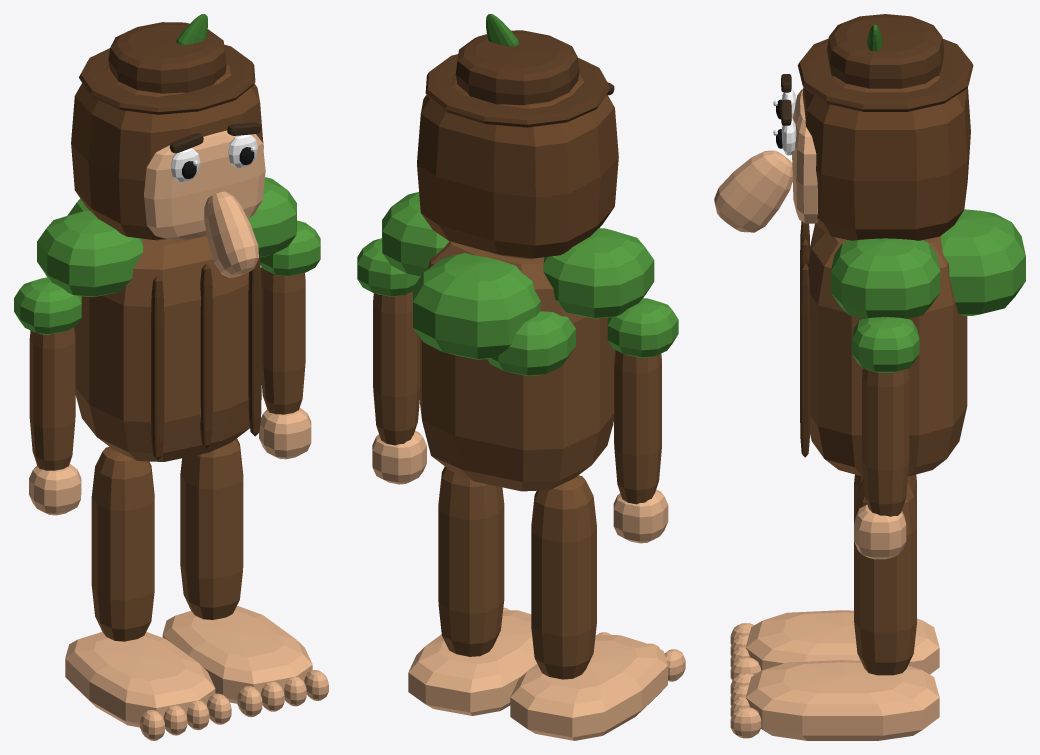
File: br-patapim.glb
3 renders of one model, left to right at view 1: azimuth 30°, elevation 25°; view 2: azimuth 150°, elevation 25°; view 3: azimuth 270°, elevation 25°, orthographic. The views are drawn at different scales.
Parts seen in each view (by area): view 1: torso, head, leg-right, leg-left, arm-right, arm-left; view 2: torso, head, leg-right, leg-left, arm-right, arm-left; view 3: head, torso, leg-left, arm-left, leg-right.
Boxes of the visible parts, x1,y1,x2,y2 form: torso: [37, 177, 296, 461]; head: [71, 14, 265, 277]; leg-right: [65, 446, 231, 740]; leg-left: [162, 438, 328, 717]; arm-right: [14, 277, 81, 515]; arm-left: [259, 220, 320, 459]; torso: [382, 192, 654, 491]; head: [417, 14, 618, 258]; leg-right: [510, 475, 685, 740]; leg-left: [408, 466, 537, 715]; arm-right: [607, 298, 678, 543]; arm-left: [357, 238, 426, 484]; head: [714, 14, 973, 240]; torso: [800, 209, 1025, 476]; leg-left: [730, 479, 939, 740]; arm-left: [851, 316, 919, 559]; leg-right: [730, 474, 939, 680].
Size of the model in its own units: 1.33 by 2.84 by 1.16.
